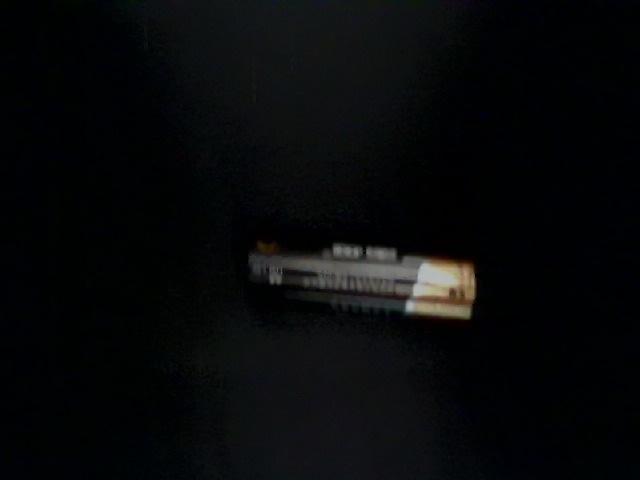YHLJ: (1, 294, 247, 460)
